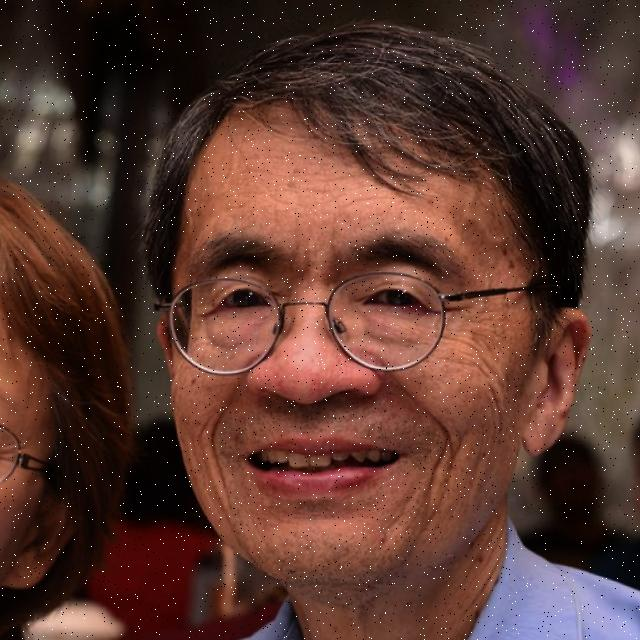puffy_eyes: (201, 316, 265, 346), (365, 313, 429, 341)
